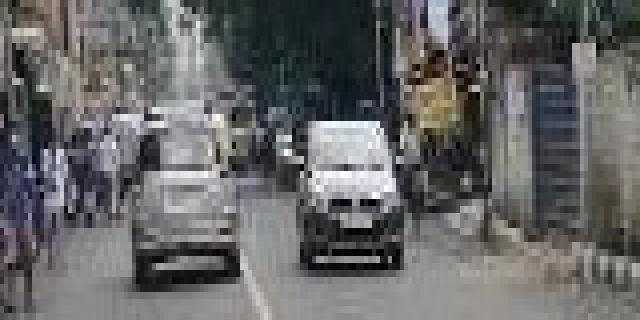Car: (116, 102, 256, 291), (291, 115, 413, 276)
